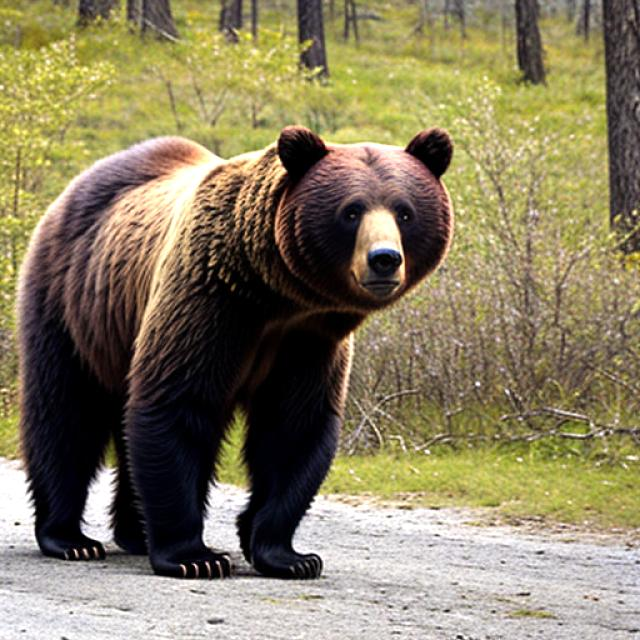bear: (257, 120, 469, 322)
